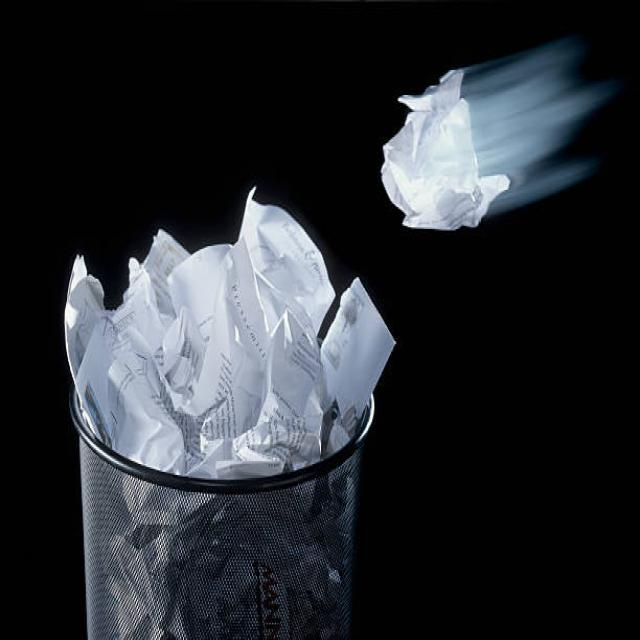electronic: (380, 67, 510, 230), (236, 184, 336, 339), (318, 276, 395, 454)
